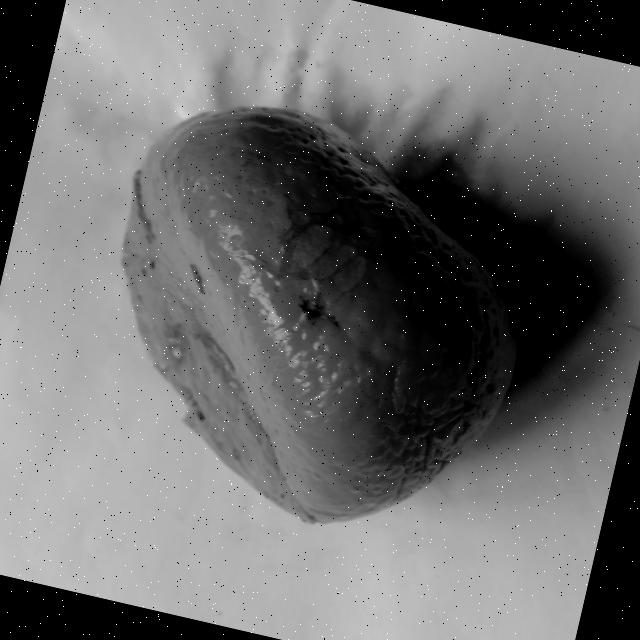Rotten: (66, 78, 559, 559)
